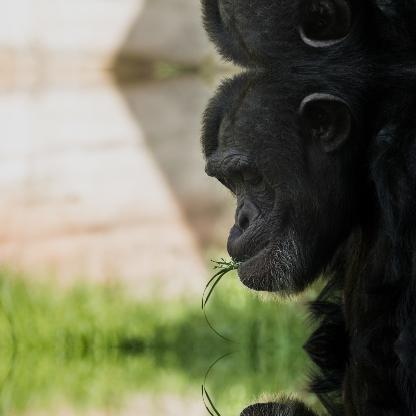Monkey: (200, 69, 416, 346), (200, 0, 415, 70), (200, 346, 415, 415)
